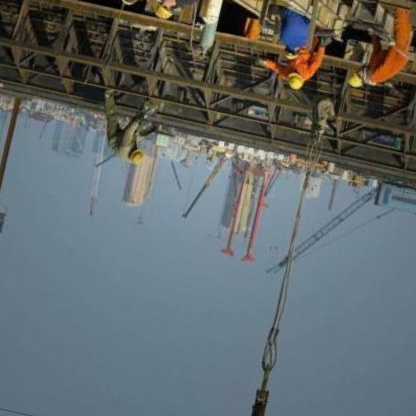yellow: (278, 67, 312, 98), (340, 66, 370, 95), (150, 0, 176, 23), (125, 145, 149, 169)
